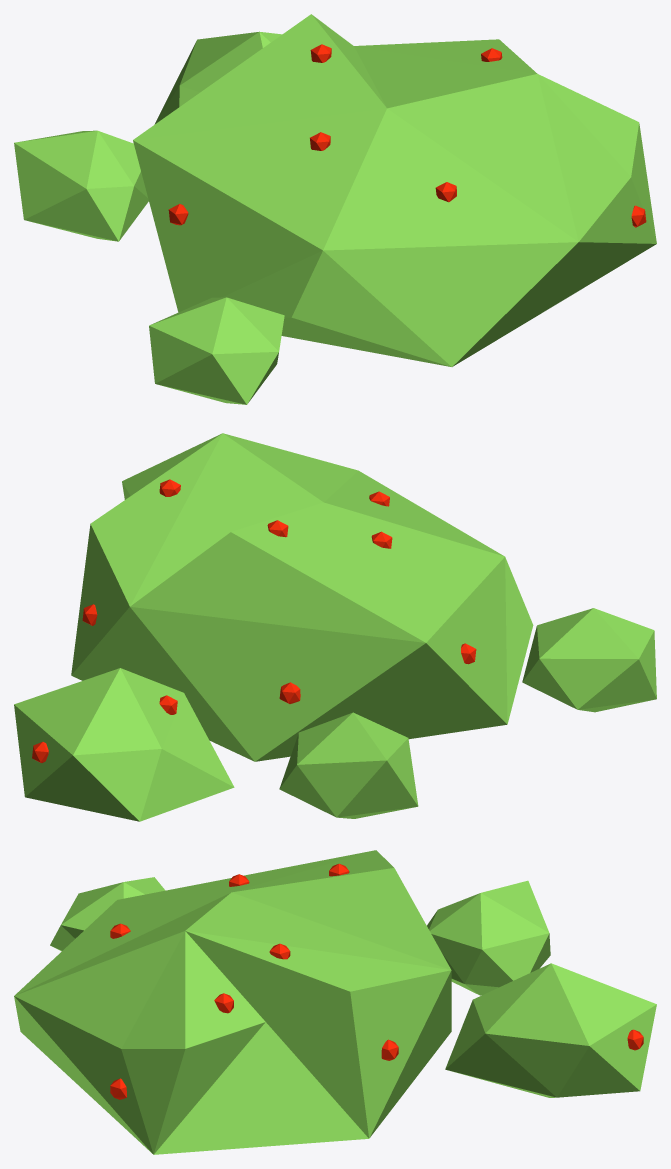
The model's file is Shrub1.fbx.
The picture shows the model from 3 angles, top to bottom: view 1: azimuth 30°, elevation 25°; view 2: azimuth 150°, elevation 25°; view 3: azimuth 270°, elevation 25°; orthographic projection. The views are drawn at different scales.
Parts seen in each view (by area): view 1: Shrub1, Berries2; view 2: Shrub1, Berries2; view 3: Shrub1, Berries2.
Part boxes in pixels (bbox=[...]): Shrub1: bbox=[14, 14, 656, 404]; Berries2: bbox=[168, 44, 646, 227]; Shrub1: bbox=[14, 433, 656, 821]; Berries2: bbox=[32, 479, 476, 762]; Shrub1: bbox=[14, 850, 656, 1154]; Berries2: bbox=[110, 863, 643, 1099].
Size of the model in its own units: 143 by 61.08 by 161.
